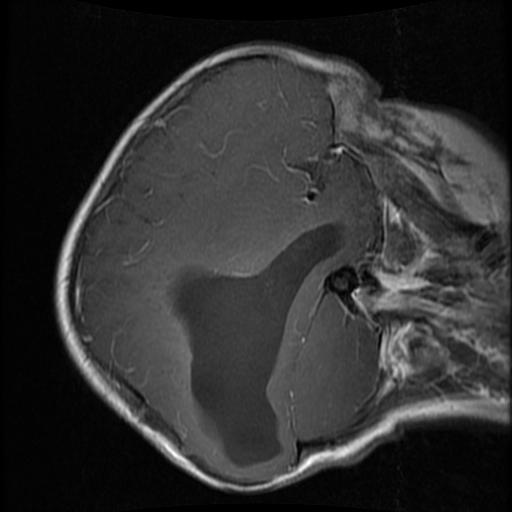glioma: (165, 221, 342, 467)
